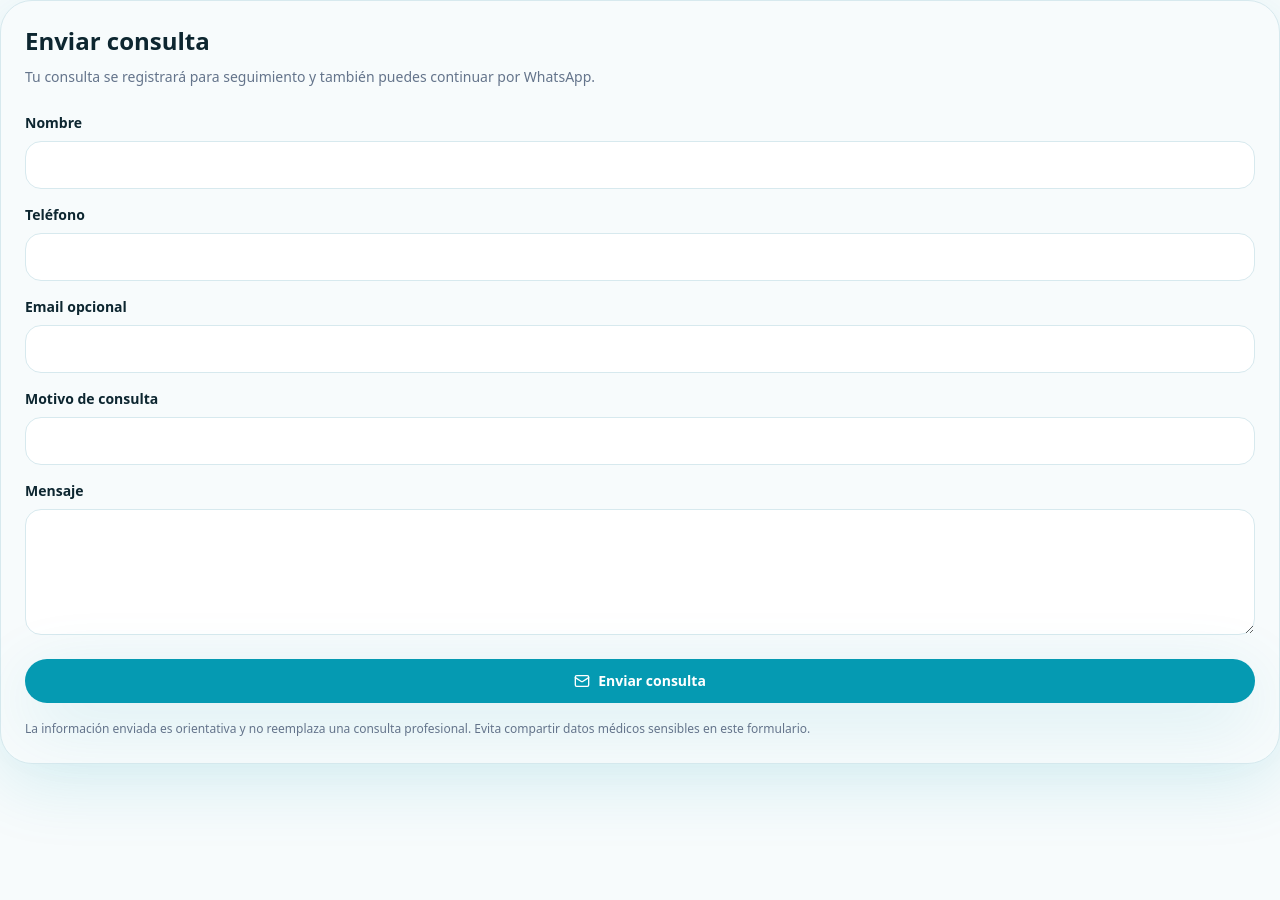
Test case: ContactLeadForm › submits a valid lead and tracks the conversion
In the field labelled "Nombre": (640, 165) [25,141,1255,189], type "Paciente Test"
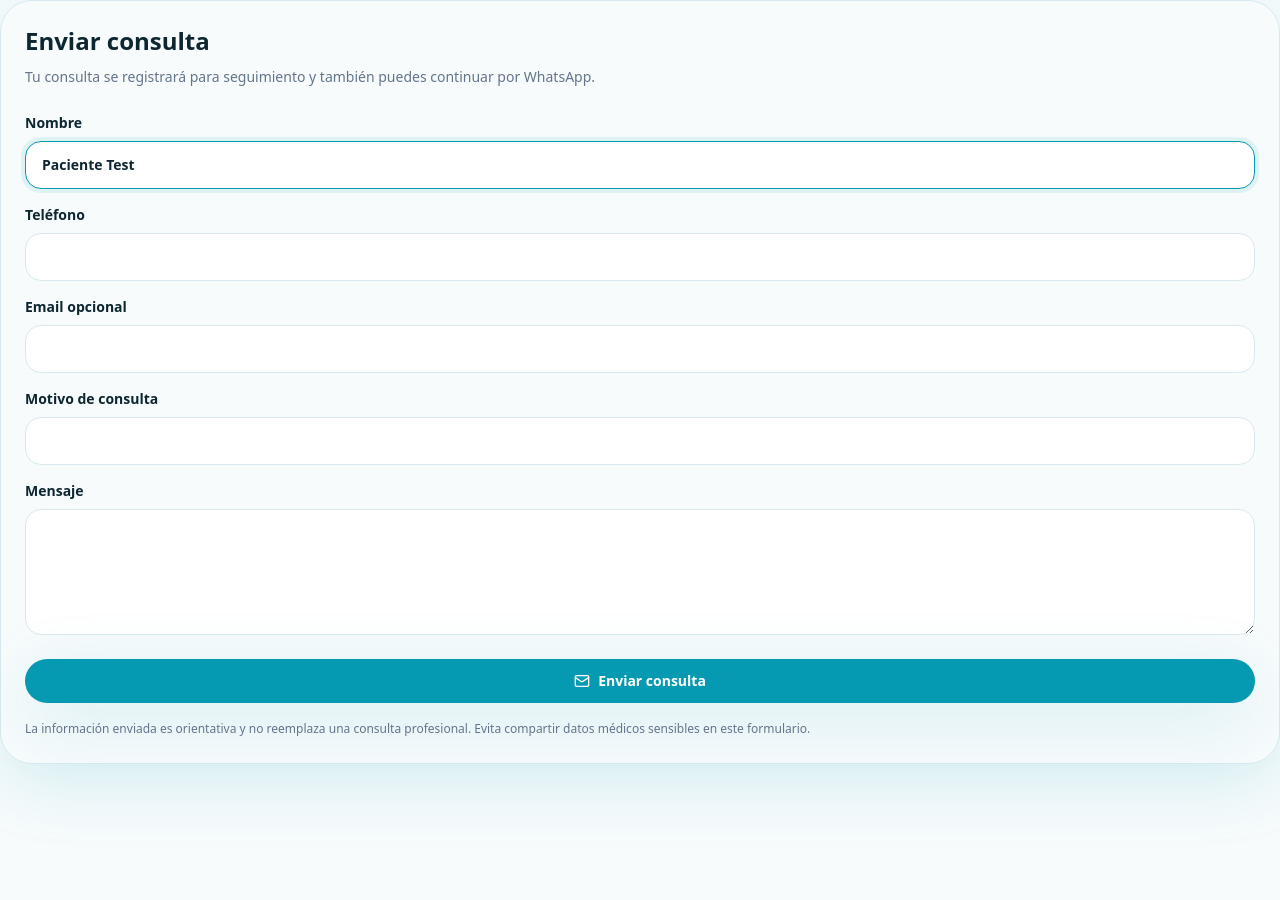
In the field labelled "Teléfono": (640, 257) [25,233,1255,281], type "+591 70000000"
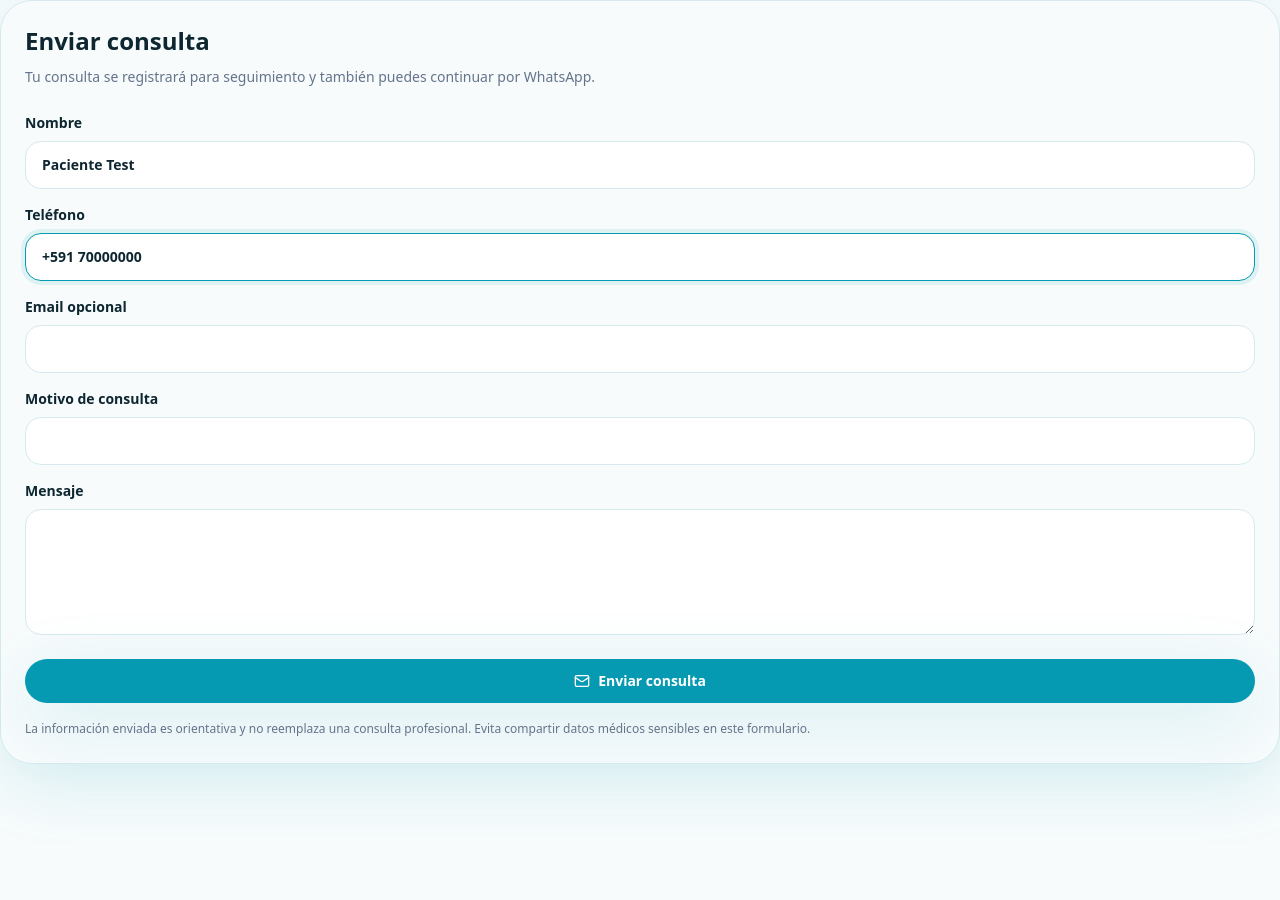
In the field labelled "Motivo de consulta": (640, 441) [25,417,1255,465], type "Consulta inicial"
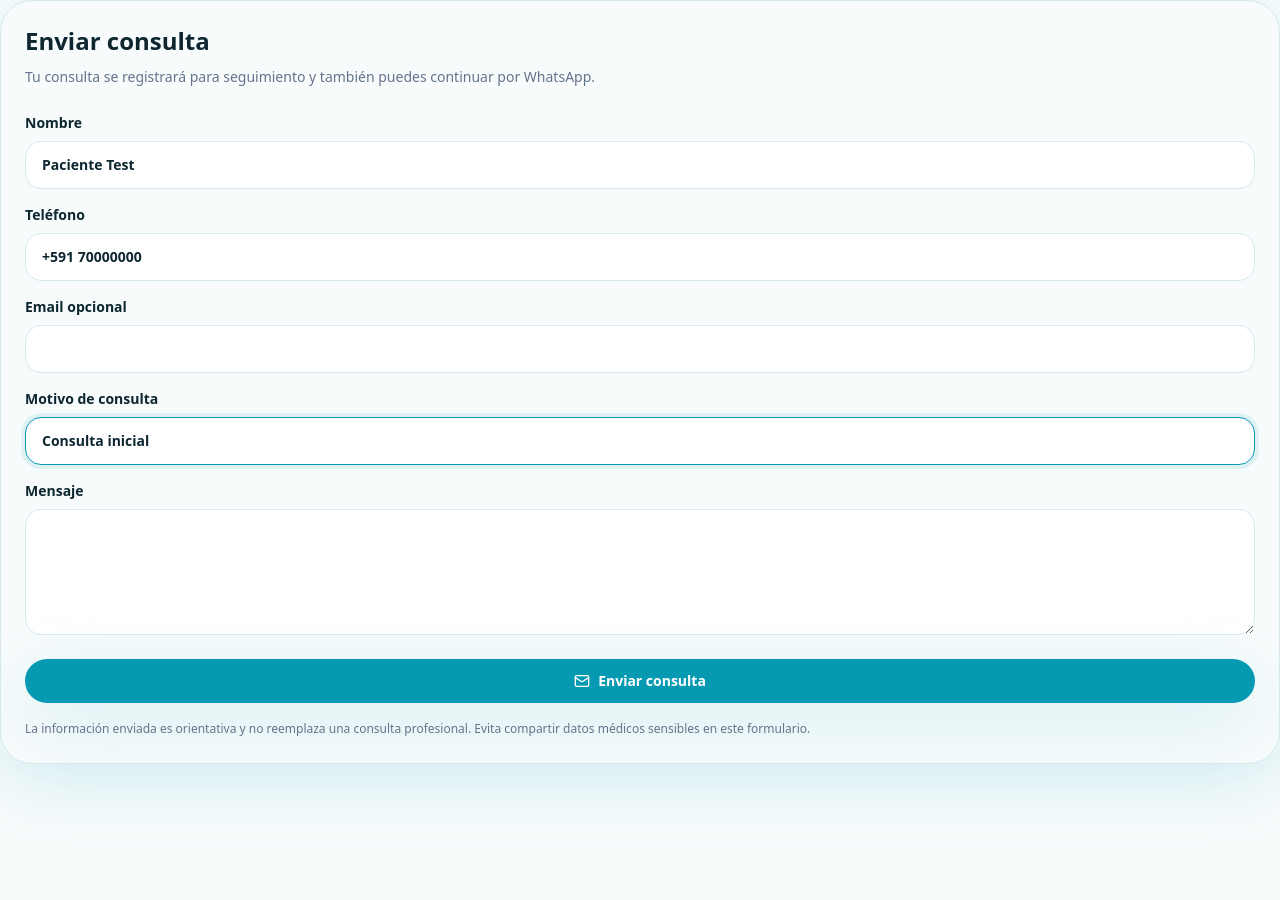
In the text box labelled "Mensaje": (640, 572) [25,509,1255,635], type "Quiero recibir orientación sobre una valoración."
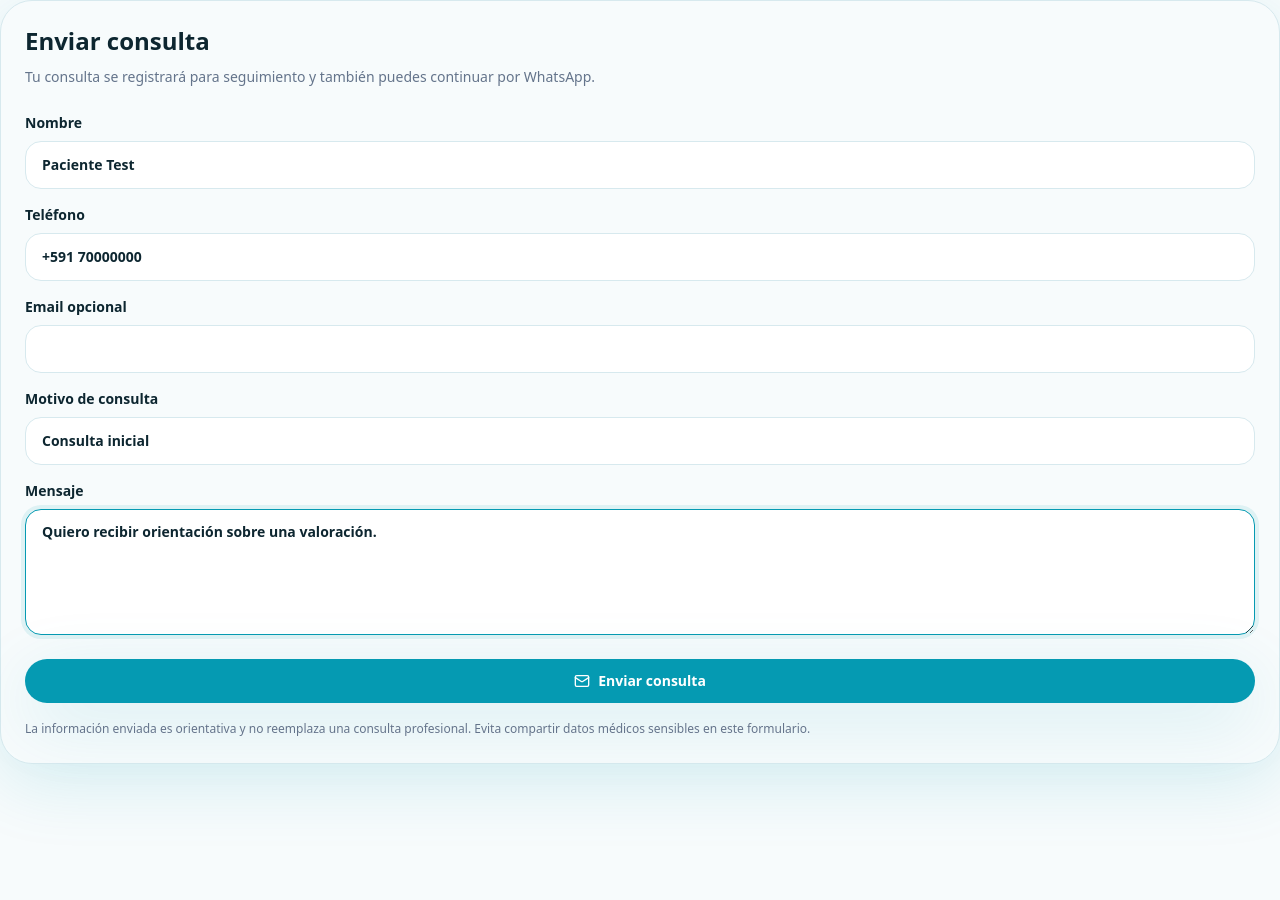
Click the button "Enviar consulta": (640, 681) [25,659,1255,703]
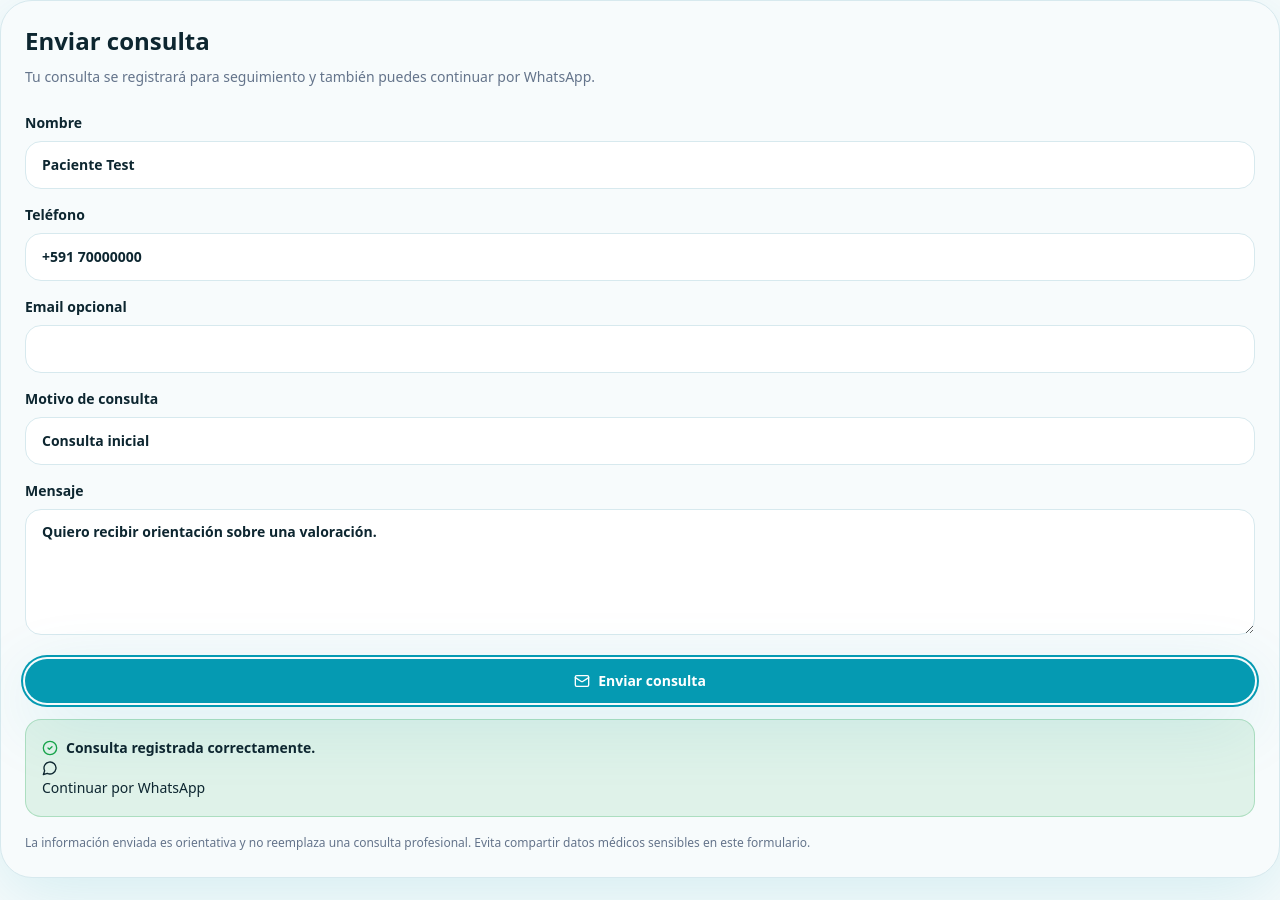
Check: the message shows "Consulta registrada correctamente.", box [66,738,315,757]
